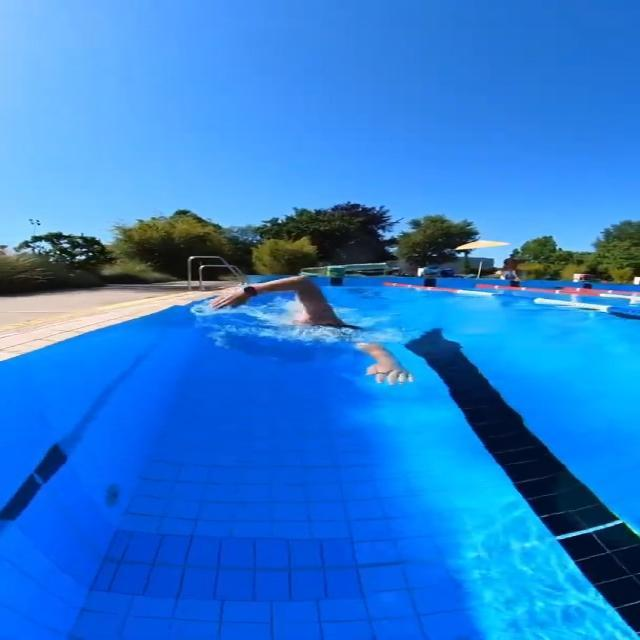Swimming: (212, 274, 412, 386)
